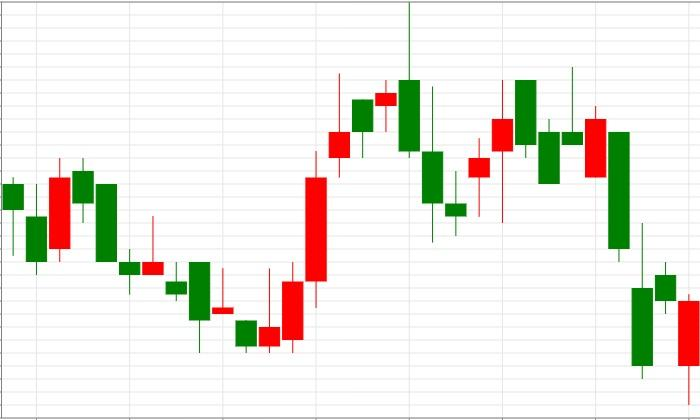bearish_engulfing_fall: (259, 2, 420, 353)
inverse_hammer_rise: (72, 158, 280, 353)
